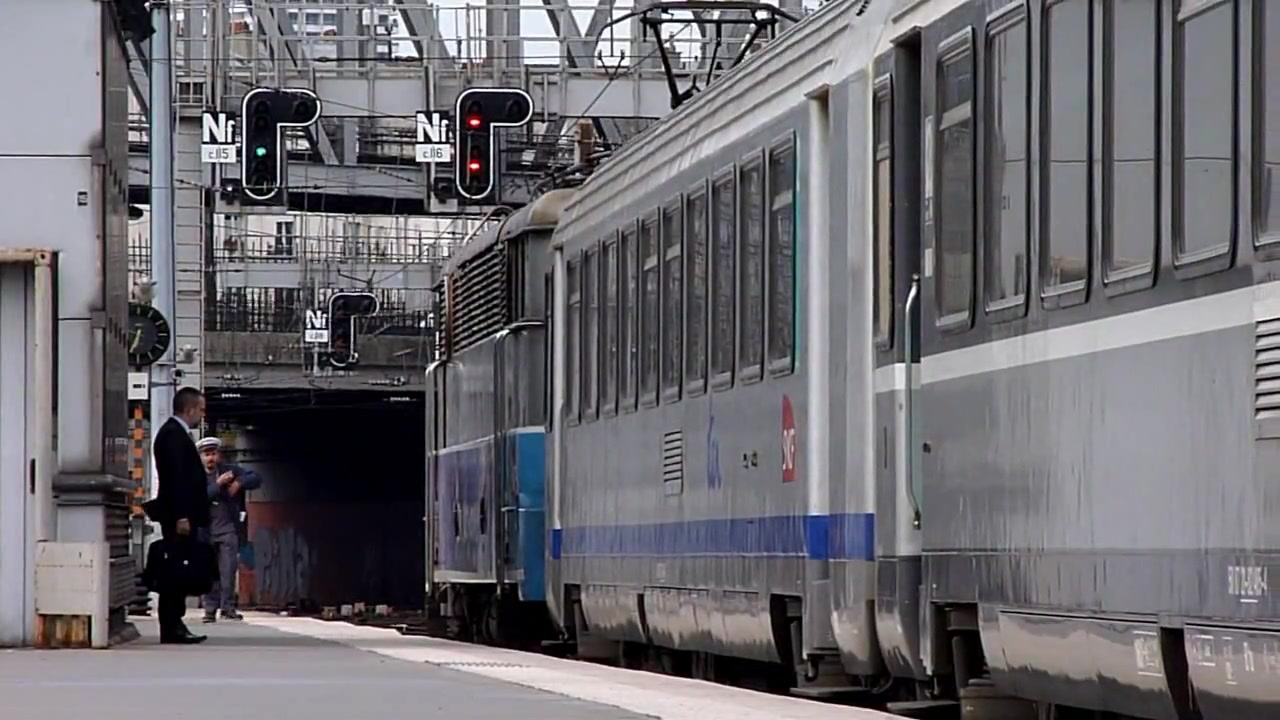train: (418, 1, 1280, 720)
